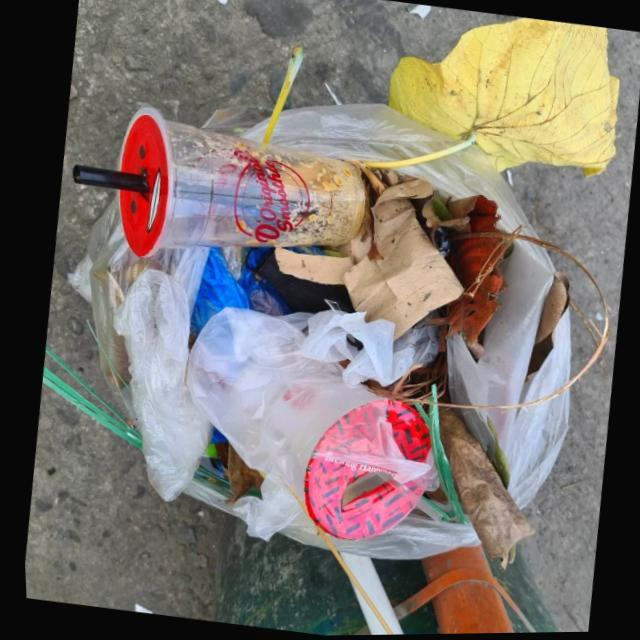paper: (278, 161, 462, 343)
plastic_bag: (105, 245, 210, 502), (305, 310, 435, 388)
plastic_container: (182, 306, 429, 541), (115, 105, 364, 260)
